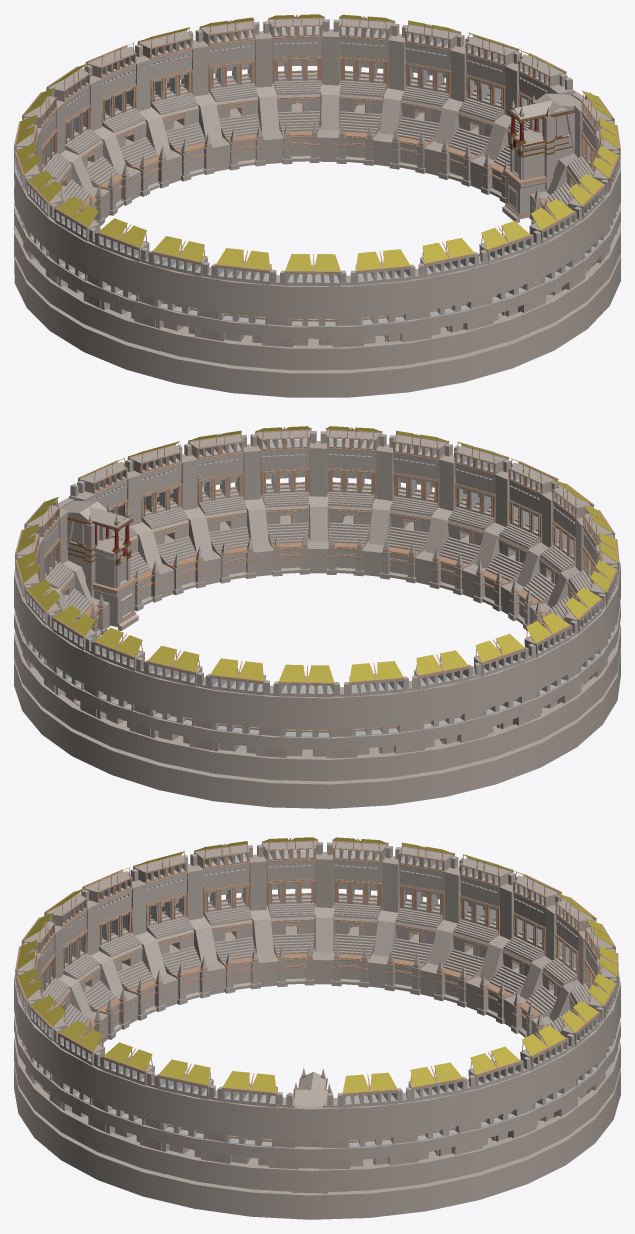
File: Arena.fbx
3 renders of one model, top to bottom at view 1: azimuth 30°, elevation 25°; view 2: azimuth 150°, elevation 25°; view 3: azimuth 270°, elevation 25°, orthographic.
Parts seen in each view (by area): view 1: pCube219; view 2: pCube219; view 3: pCube219.
Part boxes in pixels (x1,y1,x2,y2): pCube219: (14,14,620,397); pCube219: (14,426,620,808); pCube219: (14,837,620,1219).
Bounding box in the file's own units: 4277 × 1048 × 4277.
